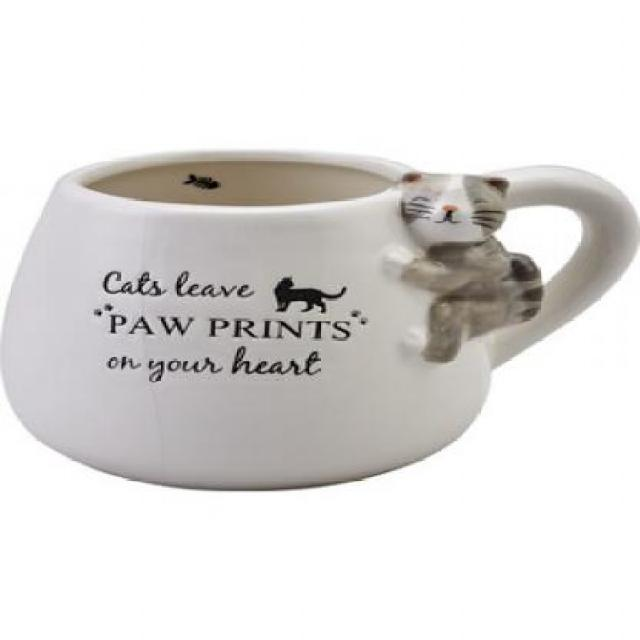taza: (0, 147, 640, 490)
